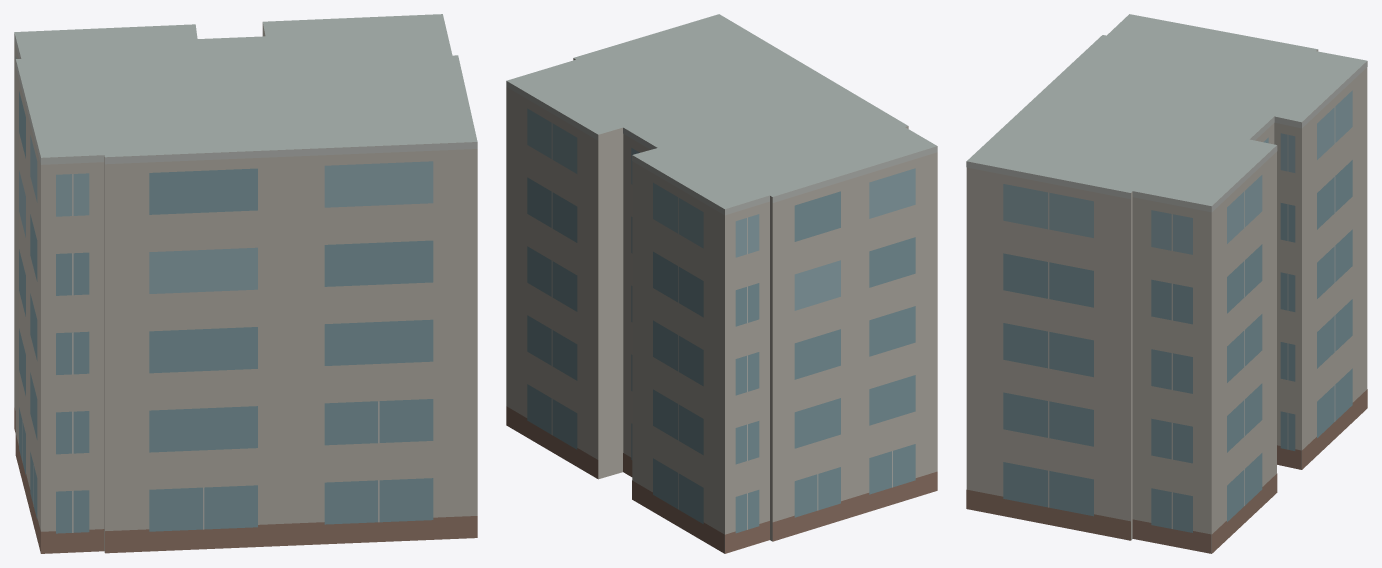
The model's file is survey-upis-32669690.glb.
3 renders of one model, left to right at view 1: azimuth 30°, elevation 25°; view 2: azimuth 150°, elevation 25°; view 3: azimuth 270°, elevation 25°, orthographic. The views are drawn at different scales.
Parts seen in each view (by area): view 1: survey-upis-32669690.tmp; view 2: survey-upis-32669690.tmp; view 3: survey-upis-32669690.tmp.
Boxes of the visible parts, x1=… form: survey-upis-32669690.tmp: x1=14, y1=14, x2=477, y2=553; survey-upis-32669690.tmp: x1=506, y1=14, x2=937, y2=553; survey-upis-32669690.tmp: x1=966, y1=14, x2=1367, y2=553.
Bounding box in the file's own units: 16.31 × 13.75 × 14.38.
